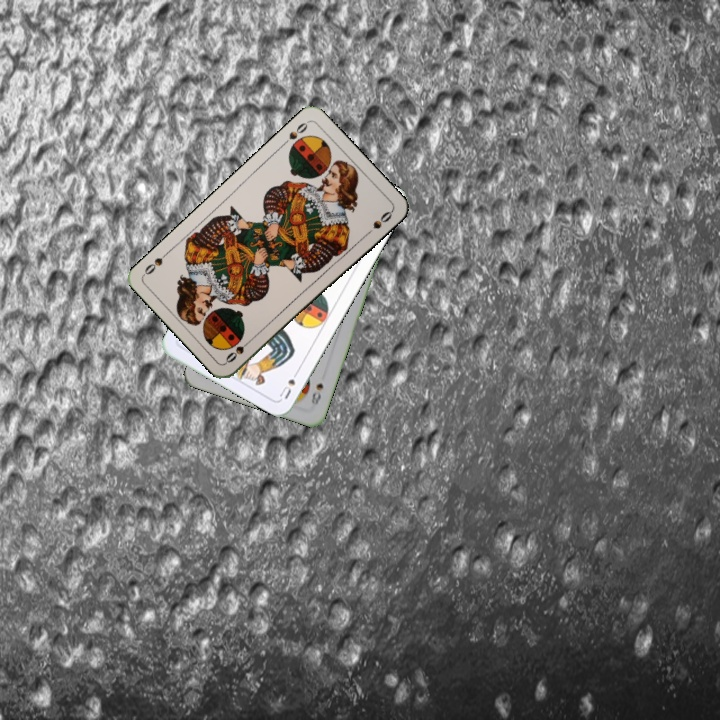S8: (307, 379, 326, 411)
SO: (221, 334, 256, 366), (278, 117, 311, 149)
SU: (275, 364, 303, 402)
